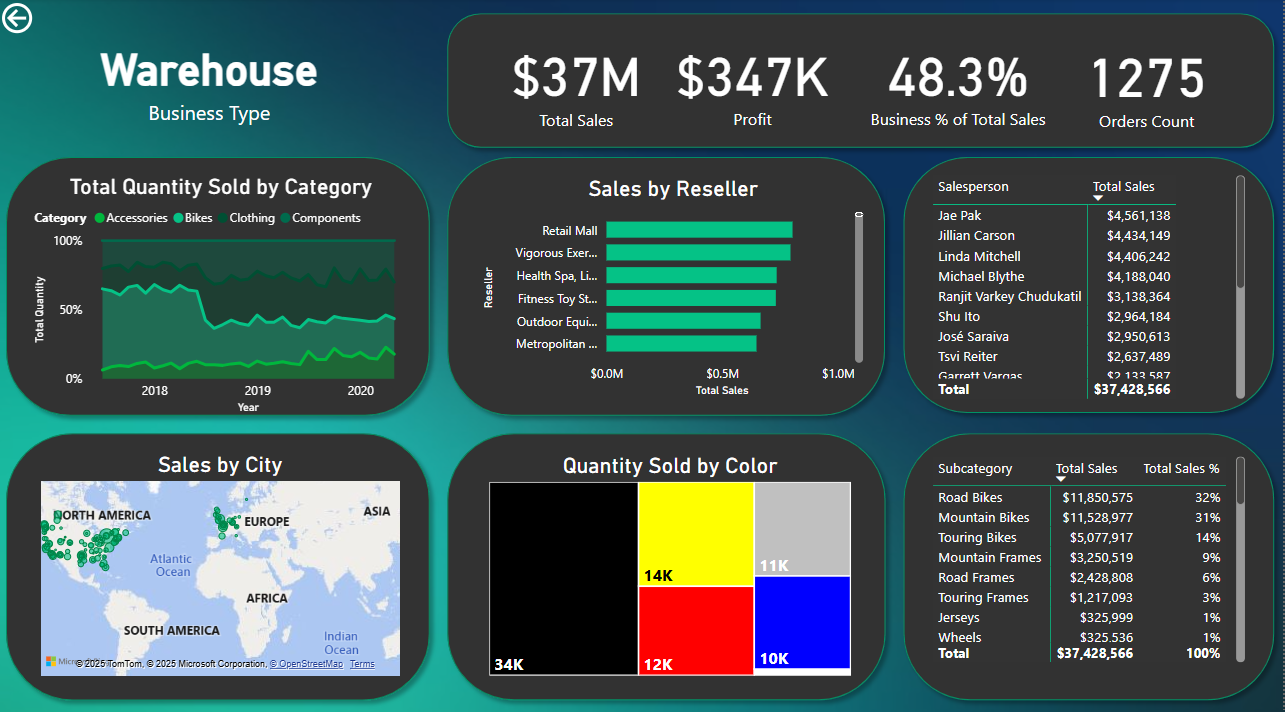

The dashboard page shown, as its layout file describes it:
{"tool":"powerbi","page":{"name":"Business Type Details","canvas":[1280,720],"ordinal":1},"visuals":[{"type":"shape","box":[893.2,148.9,386.8,272.7],"z":0},{"type":"shape","box":[0,148.9,439.7,275.5],"z":1000},{"type":"shape","box":[439.1,6.2,840.9,151.8],"z":2000},{"type":"shape","box":[439.7,148.9,453.6,275.5],"z":3000},{"type":"shape","box":[893.2,424.2,386.9,283.6],"z":4000},{"type":"actionButton","box":[0,0,100,40],"z":5000},{"type":"shape","box":[439.1,424.2,454,283.6],"z":6000},{"type":"card","fields":{"Values":["Min(Reseller.Business Type)"]},"box":[0,11.2,422.9,138.1],"z":7000},{"type":"shape","box":[0,424.3,439.7,283.8],"z":8000},{"type":"map","title":"Sales by City","fields":{"Category":["Reseller.City"],"Size":["Sales.Total Sales"]},"box":[39,452.2,367.3,228.2],"z":9000},{"type":"hundredPercentStackedAreaChart","title":"Total Quantity Sold by Category","fields":{"Category":["Date.Date.Variation.Date Hierarchy.Year","Date.Date.Variation.Date Hierarchy.Quarter","Date.Date.Variation.Date Hierarchy.Month","Date.Date.Variation.Date Hierarchy.Day"],"Y":["Sales.Total Quantity"],"Series":["Products.Category"]},"box":[32,175.3,381.2,243.5],"z":10000},{"type":"clusteredBarChart","title":"Sales by Reseller","fields":{"Category":["Reseller.Reseller"],"Y":["Sales.Total Sales"]},"box":[478.6,176.7,388.2,225.4],"z":11000},{"type":"card","fields":{"Values":["Sales.% of Total Sales Category"]},"box":[855.8,28.4,201.5,107],"z":12000},{"type":"pivotTable","fields":{"Rows":["Salesperson.Salesperson"],"Values":["Sales.Total Sales"]},"box":[926.6,171.1,320,232.3],"z":13000},{"type":"treemap","title":"Quantity Sold by Color","fields":{"Group":["Products.Color"],"Values":["Sales.Total Quantity"]},"box":[485.1,452.8,369.5,226.4],"z":14000},{"type":"pivotTable","fields":{"Values":["Sales.Total Sales","Sales.% of Total Sales Subcategory"],"Rows":["Products.Subcategory"]},"box":[926.6,452.2,320,214.3],"z":15000},{"type":"card","fields":{"Values":["Sales.Profit"]},"box":[670.5,28.4,163,107],"z":16000},{"type":"card","fields":{"Values":["Sales.Total Distinct Orders"]},"box":[1057.4,24.6,174.2,116.9],"z":17000},{"type":"card","fields":{"Values":["Sales.Total Sales"]},"box":[501.3,28.4,150.5,108.2],"z":18000}]}

Visuals, with their boxes in screenshot pixels (x1, y1, x2, y2), scaled from the page's 1280x720 canvas onto the 1285x712 screenshot:
shape: [left=897, top=147, right=1284, bottom=417]
shape: [left=0, top=147, right=441, bottom=420]
shape: [left=441, top=6, right=1284, bottom=156]
shape: [left=441, top=147, right=897, bottom=420]
shape: [left=897, top=419, right=1284, bottom=700]
actionButton: [left=0, top=0, right=100, bottom=40]
shape: [left=441, top=419, right=897, bottom=700]
card - Min(Reseller.Business Type): [left=0, top=11, right=425, bottom=148]
shape: [left=0, top=420, right=441, bottom=700]
"Sales by City" map: [left=39, top=447, right=408, bottom=673]
"Total Quantity Sold by Category" hundredPercentStackedAreaChart: [left=32, top=173, right=415, bottom=414]
"Sales by Reseller" clusteredBarChart: [left=480, top=175, right=870, bottom=398]
card - Sales.% of Total Sales Category: [left=859, top=28, right=1061, bottom=134]
pivotTable - Salesperson.Salesperson x Sales.Total Sales: [left=930, top=169, right=1251, bottom=399]
"Quantity Sold by Color" treemap: [left=487, top=448, right=858, bottom=672]
pivotTable - Sales.Total Sales x Sales.% of Total Sales Subcategory: [left=930, top=447, right=1251, bottom=659]
card - Sales.Profit: [left=673, top=28, right=837, bottom=134]
card - Sales.Total Distinct Orders: [left=1062, top=24, right=1236, bottom=140]
card - Sales.Total Sales: [left=503, top=28, right=654, bottom=135]
